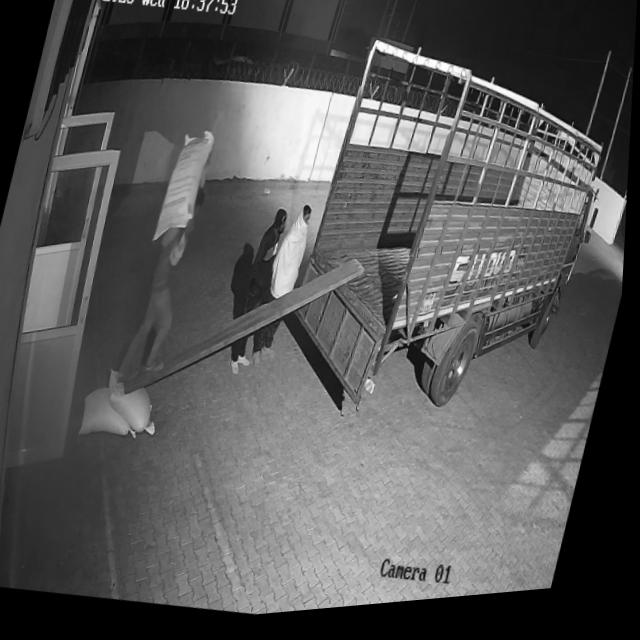sack: (154, 128, 219, 252), (101, 367, 173, 443), (82, 381, 151, 445)
